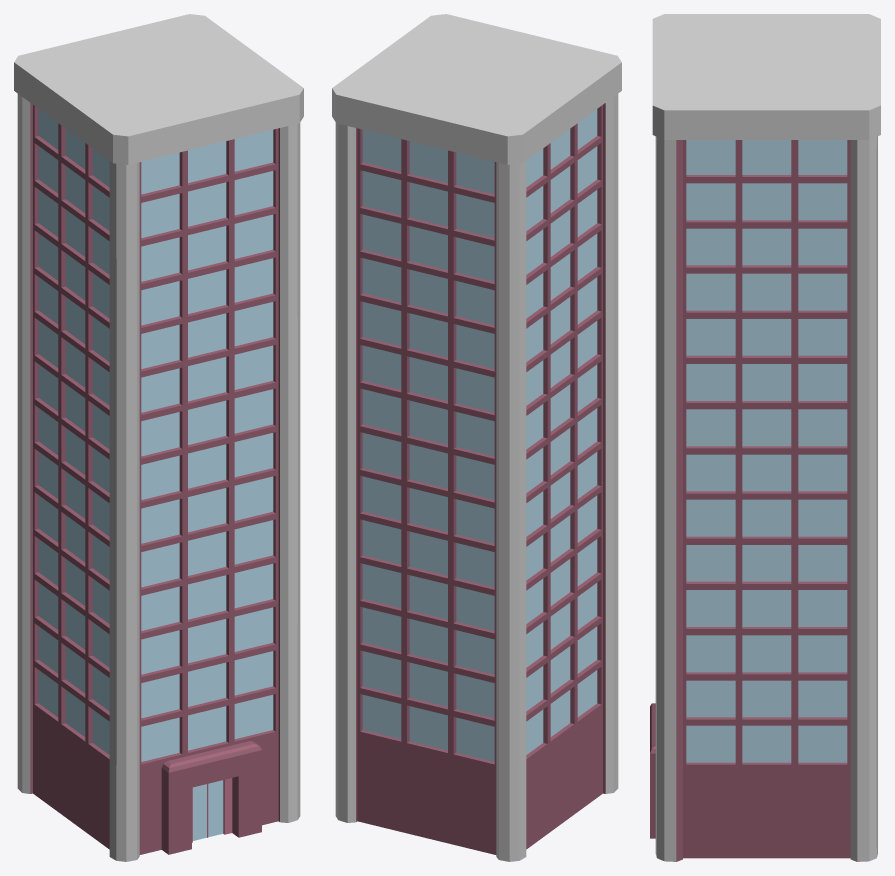
Rendered from skyscraperC.fbx.
3 renders of one model, left to right at view 1: azimuth 30°, elevation 25°; view 2: azimuth 150°, elevation 25°; view 3: azimuth 270°, elevation 25°, orthographic. The views are drawn at different scales.
Visible parts, largest first — view 1: SkyscraperC; view 2: SkyscraperC; view 3: SkyscraperC.
Boxes of the visible parts, x1=… form: SkyscraperC: x1=14, y1=14, x2=303, y2=861; SkyscraperC: x1=332, y1=14, x2=621, y2=861; SkyscraperC: x1=650, y1=14, x2=880, y2=861.
Bounding box in the file's own units: 1289 × 4693 × 1305.
